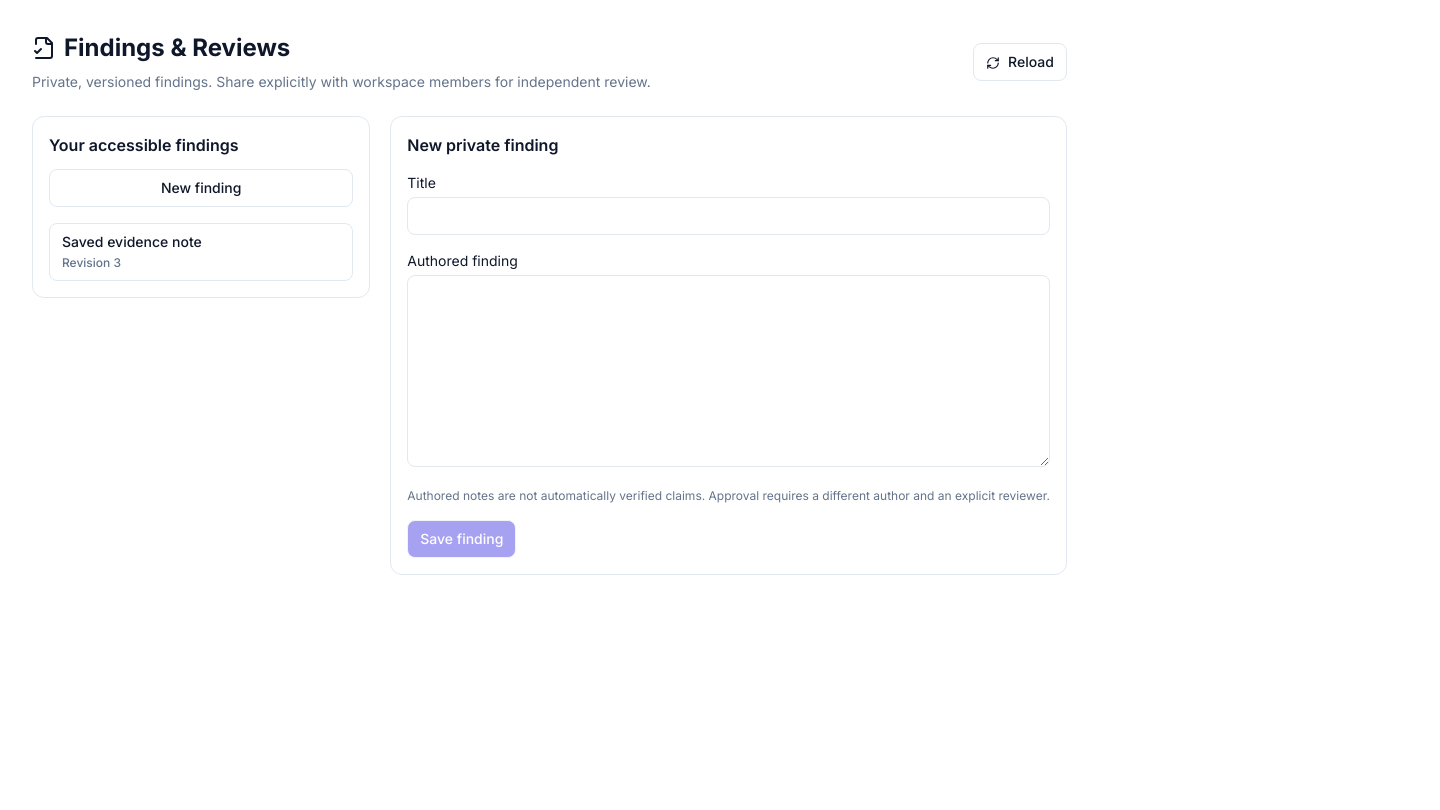
Findings workbench › edits use the expected revision and conflicts remain visible
Click the button "Saved evidence note Revision 3": (201, 252) left=49, top=223, right=353, bottom=281
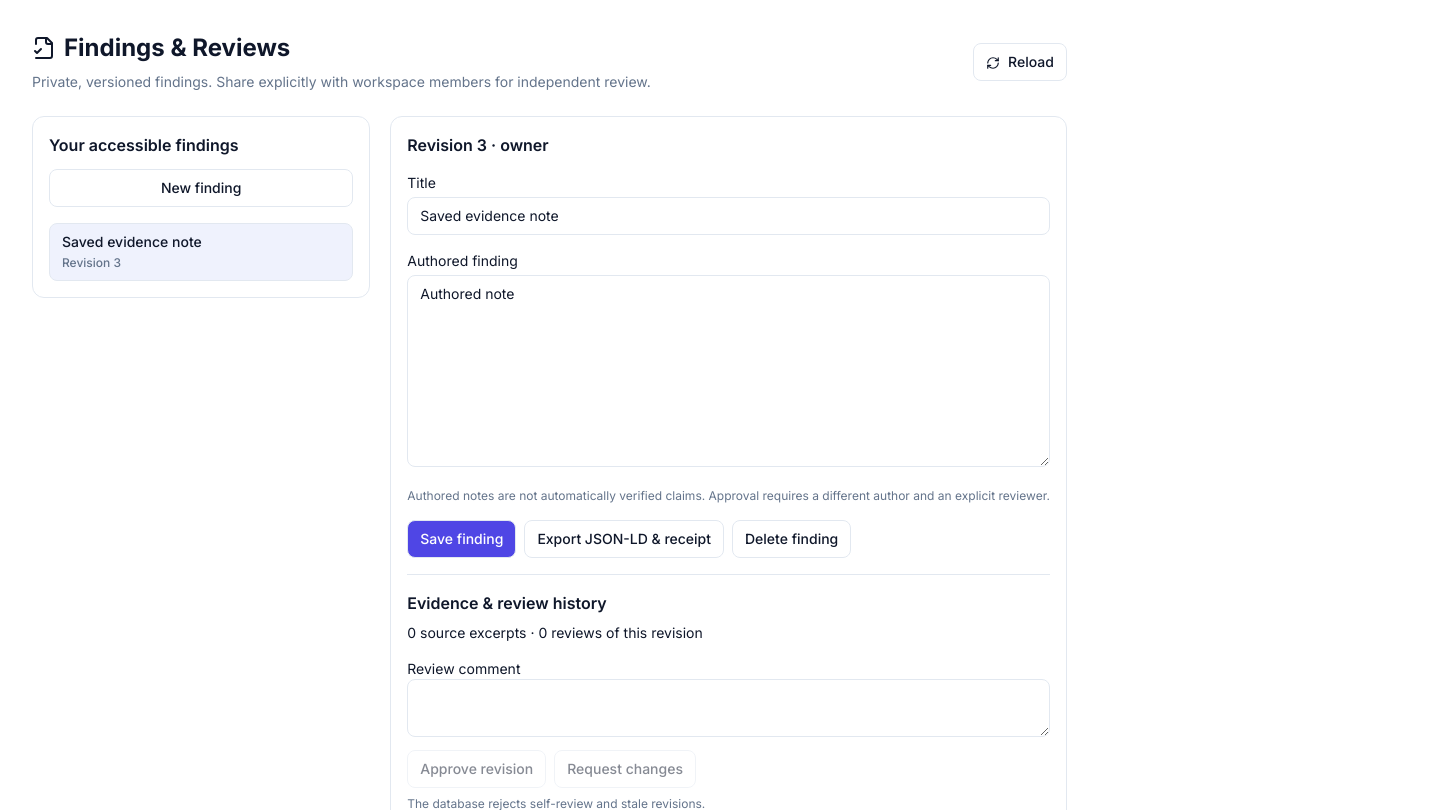
Now the field labelled "Title" holds "Saved evidence note"
Replace the text in the field labelled "Title" with "Updated note": (729, 216) left=407, top=197, right=1050, bottom=235
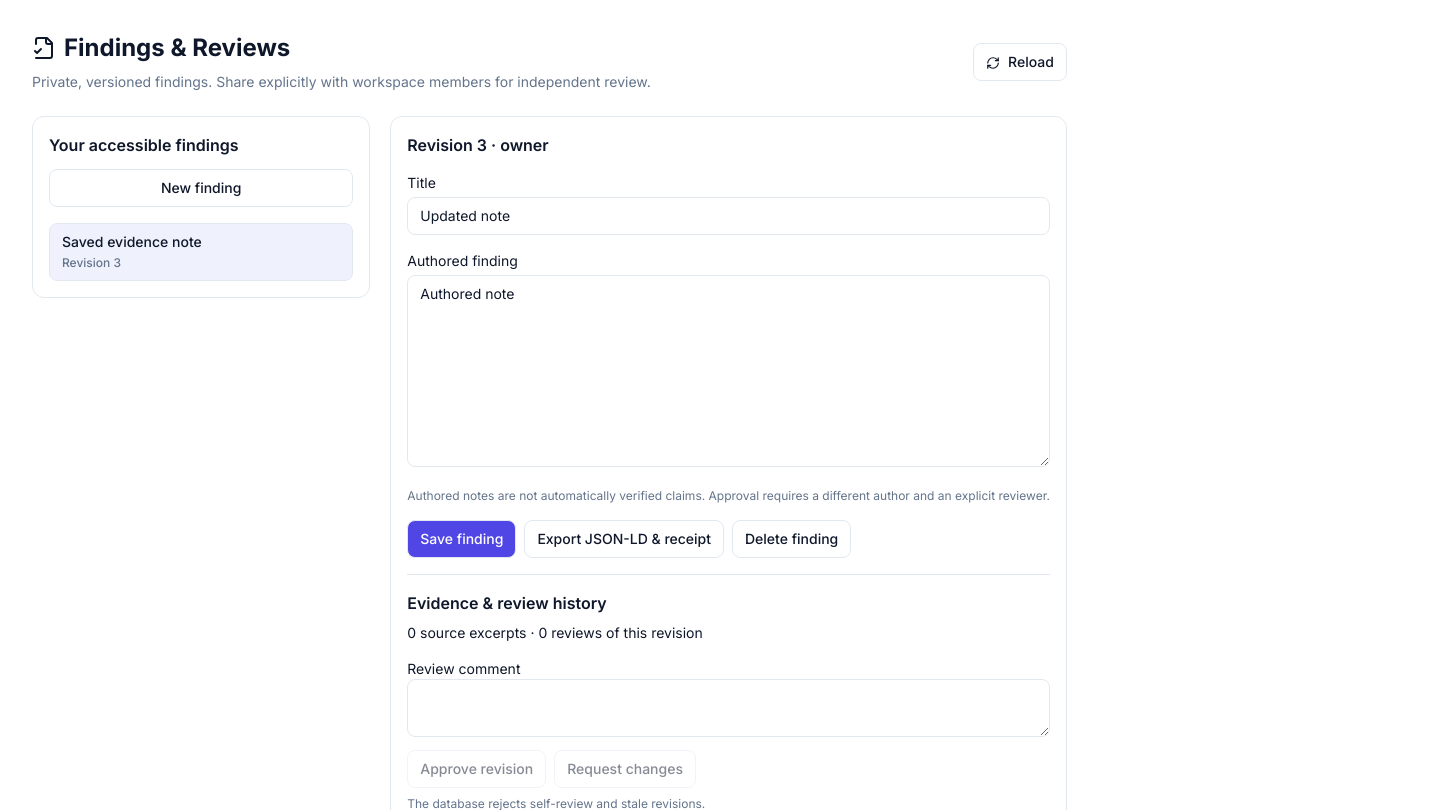
Click the button "Save finding": (462, 539) left=407, top=520, right=516, bottom=558
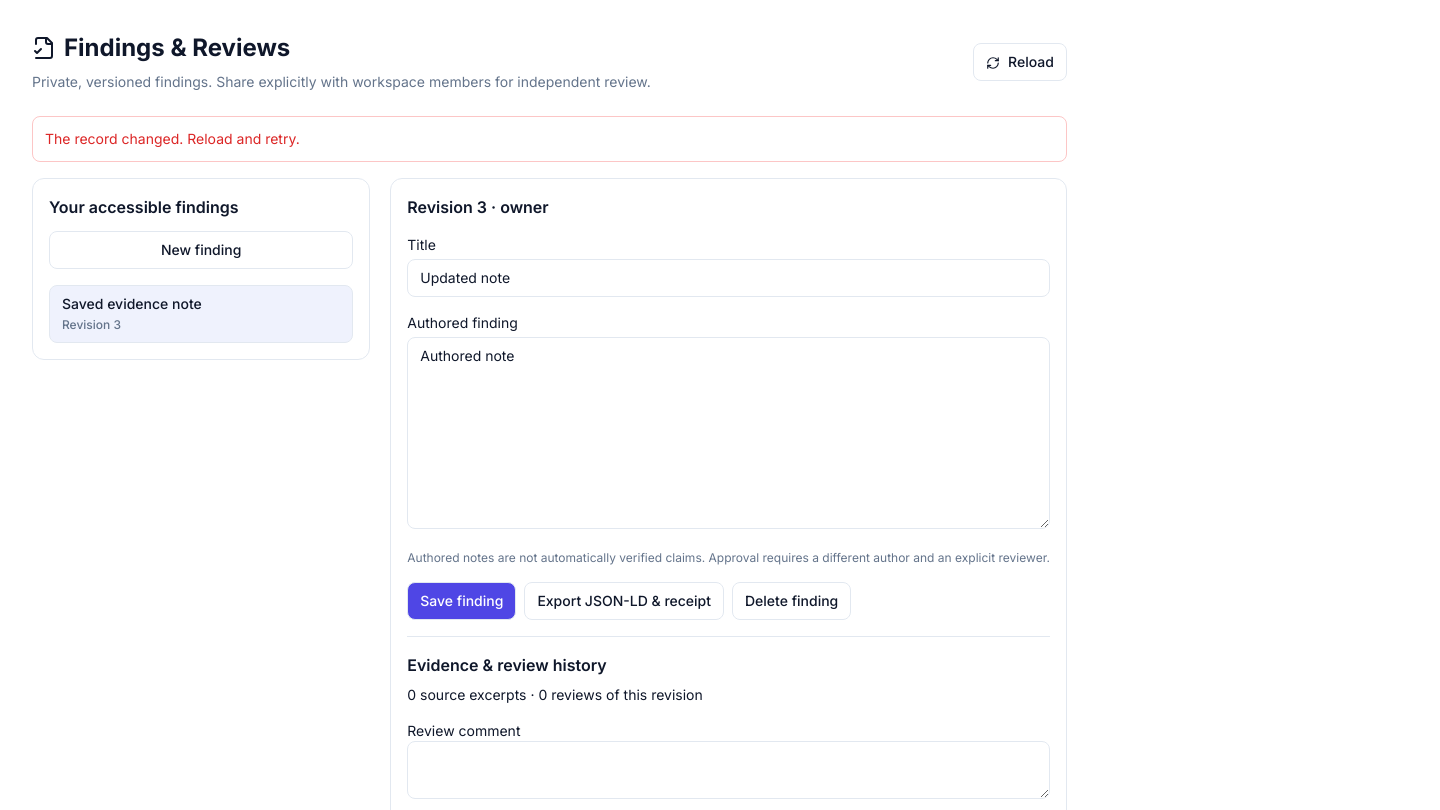
Now the message shows "The record changed", box left=45, top=130, right=300, bottom=147
